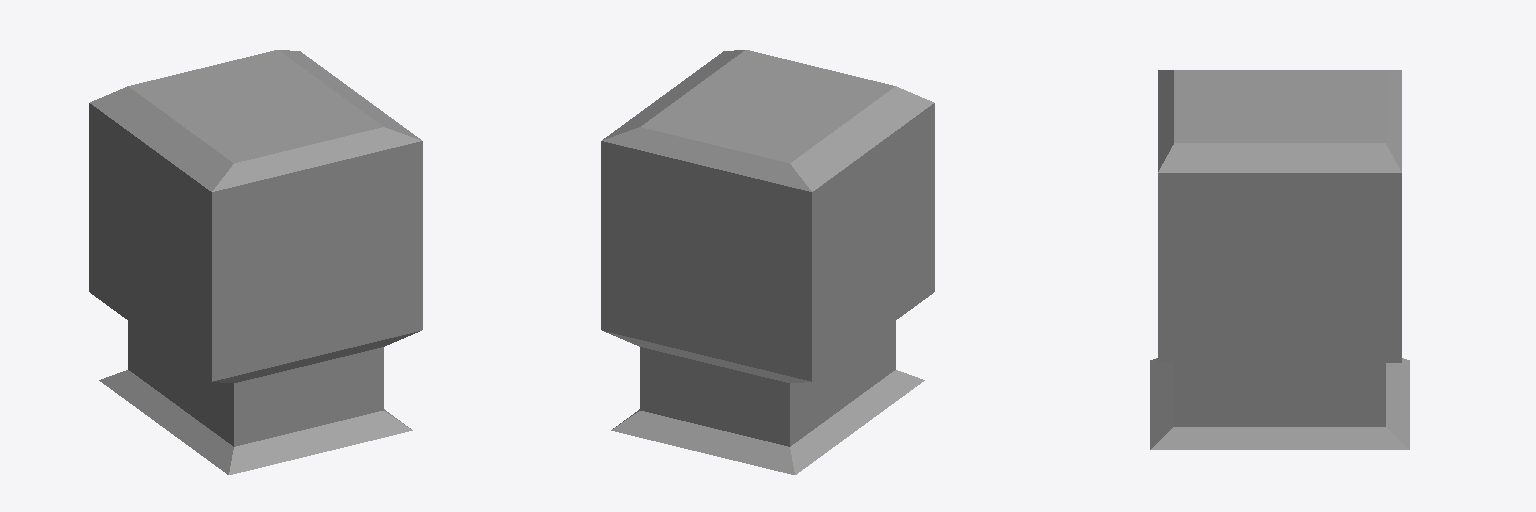
The model's file is kasten.obj.
3 views of the same model, side by side, from view 1: azimuth 30°, elevation 25°; view 2: azimuth 150°, elevation 25°; view 3: azimuth 270°, elevation 25° (orthographic).
Parts seen in each view (by area): view 1: Cube.003_Cube.006; view 2: Cube.003_Cube.006; view 3: Cube.003_Cube.006.
Part boxes in pixels (x1,y1,x2,y2): Cube.003_Cube.006: (89,50,422,474); Cube.003_Cube.006: (601,50,934,474); Cube.003_Cube.006: (1150,70,1409,449).
Bounding box in the file's own units: 0.9438 × 1.28 × 1.01.